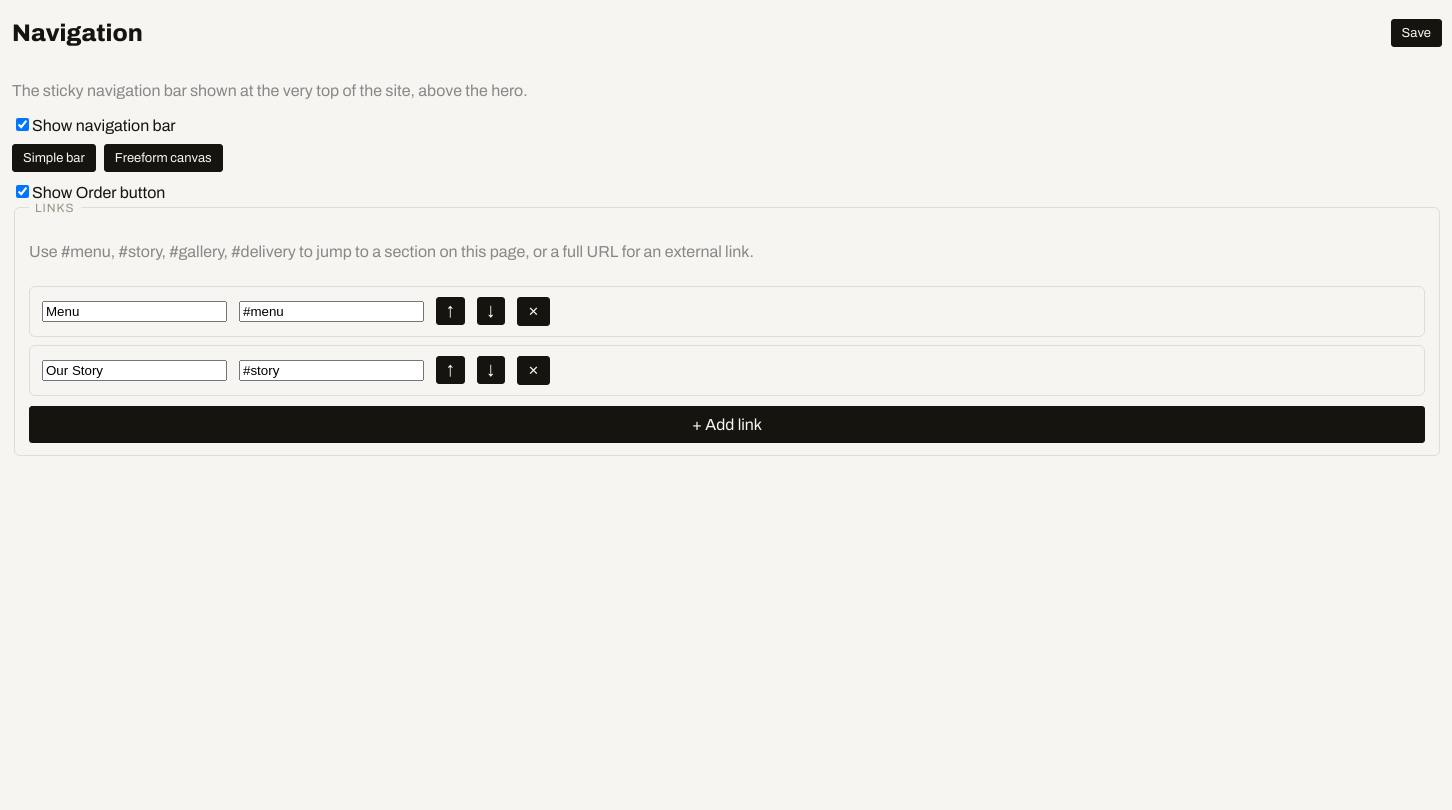
Scenario: NavbarEditor › switching back to Simple bar restores the link list
Click the button "Freeform canvas" at (163, 158), box 104,144 -> 223,172
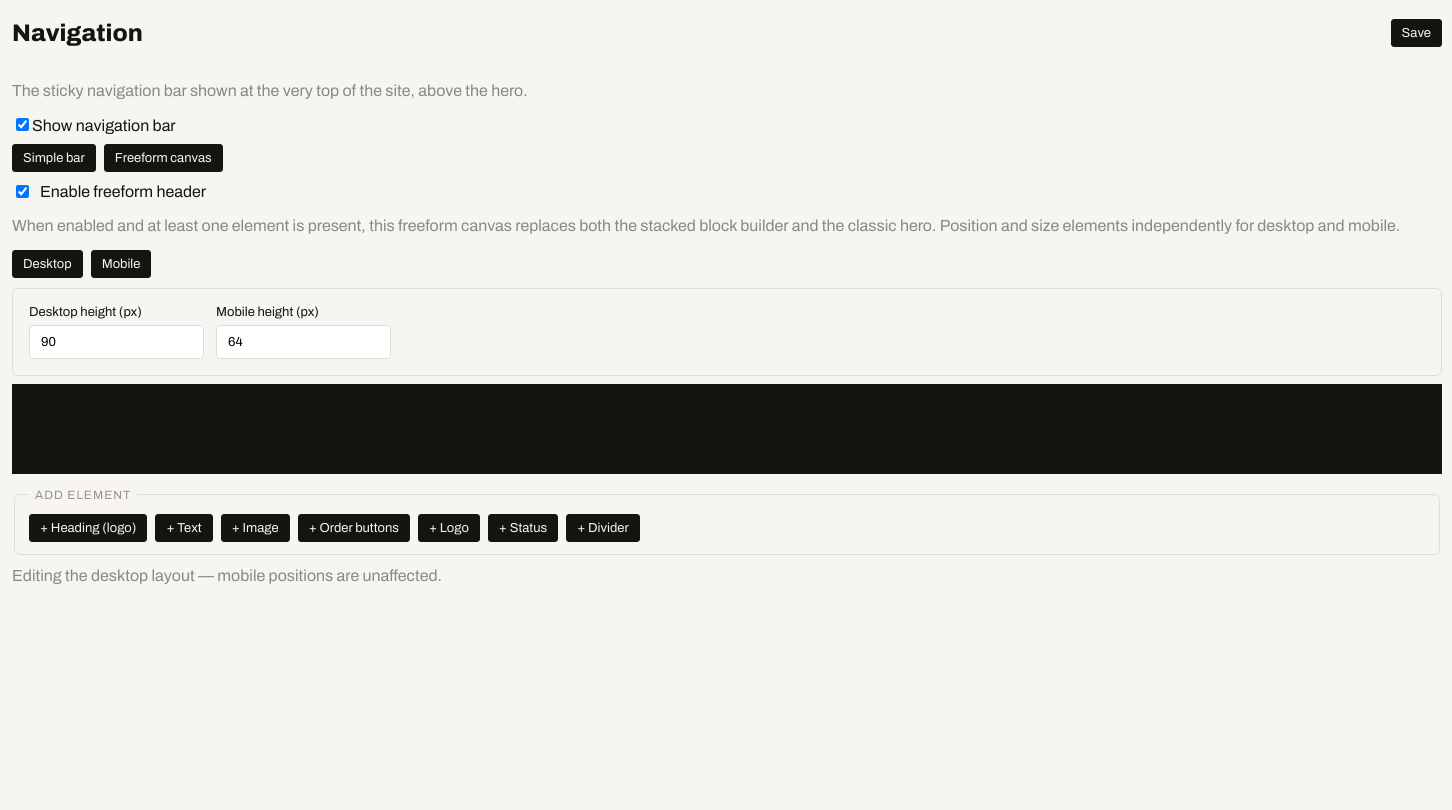
Click the button "Simple bar" at (54, 158), box 12,144 -> 96,172
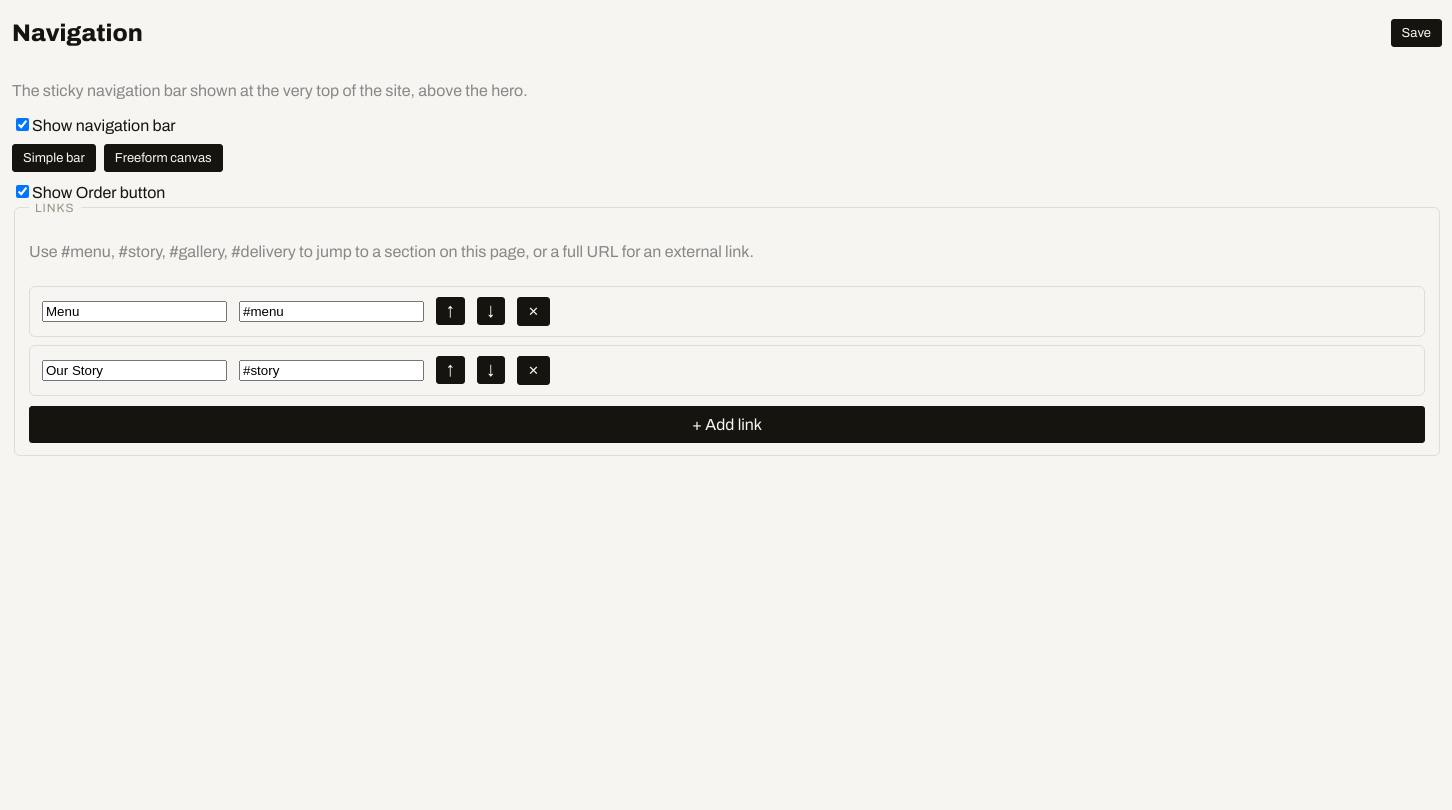
Expected: the button "+ Add link" is shown, 29,406 -> 1425,443
